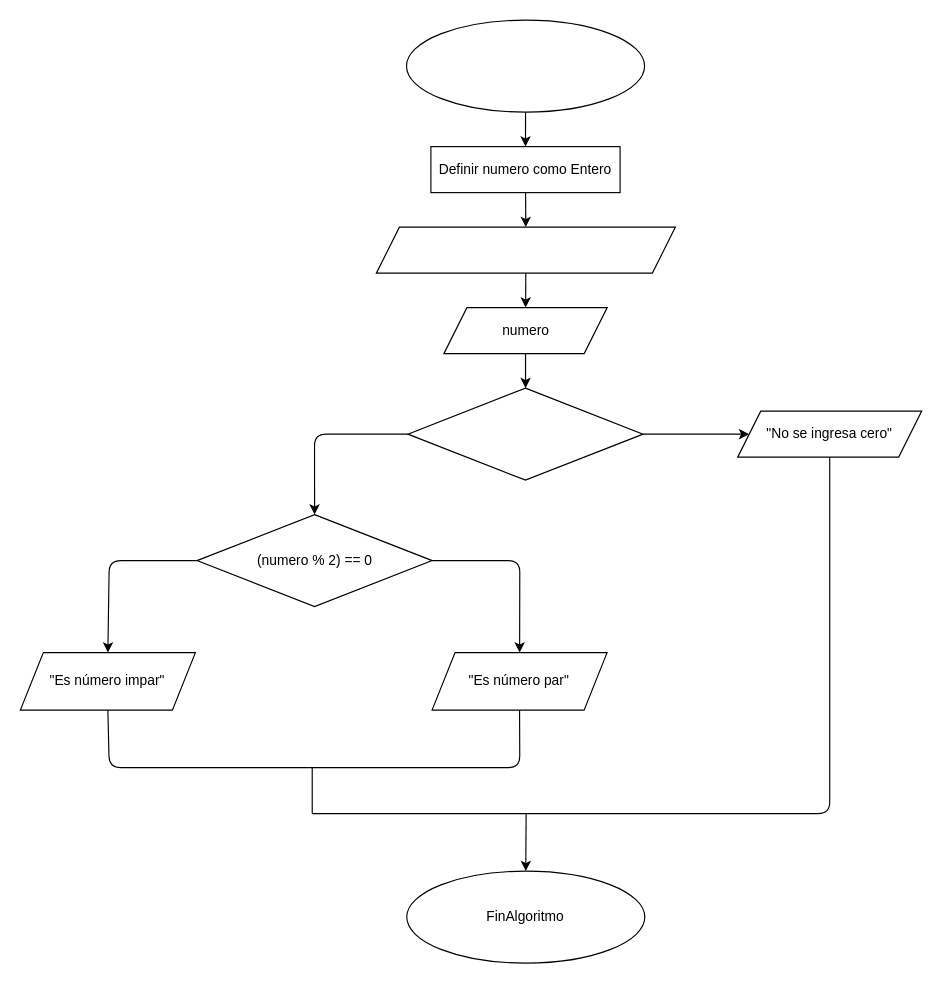
Image size: 942x983. Some labels were removed from this diagram. The box of each missing label's shape, as (x1, y1, x2, y2) in pixels:
"Ingrese un número que no sea cero: ": (375, 226, 675, 273)
Algoritmo Ejercicio2: (405, 19, 645, 112)
numero == 0: (407, 387, 643, 480)
